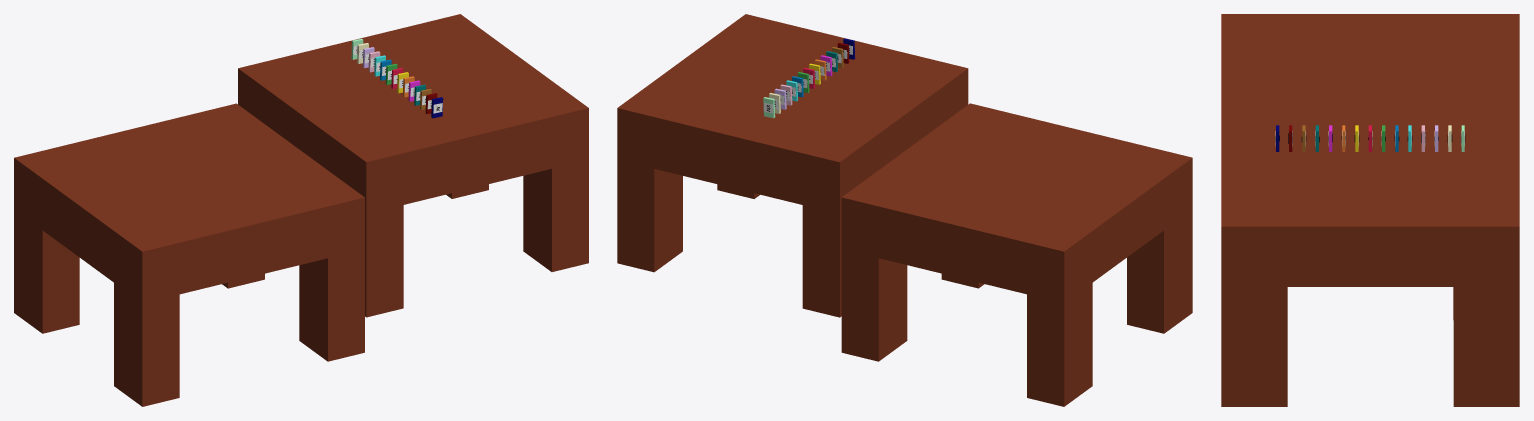
The model's file is env.dae.
3 renders of one model, left to right at view 1: azimuth 30°, elevation 25°; view 2: azimuth 150°, elevation 25°; view 3: azimuth 270°, elevation 25°, orthographic. The views are drawn at different scales.
Parts seen in each view (by area): view 1: base (×7); view 2: base (×7); view 3: base (×4).
Boxes of the visible parts, x1,y1,x2,y2 form: base (×7): [14, 14, 588, 406]; base (×7): [617, 14, 1192, 406]; base (×4): [1221, 14, 1519, 406].
Bounding box in the file's own units: 1.81 × 0.9009 × 0.8227.
